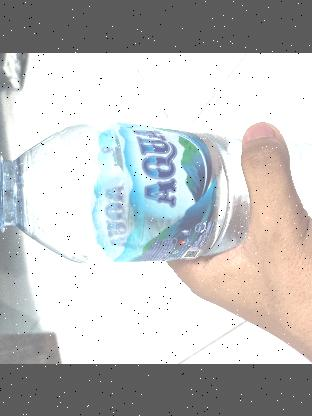Plastic Bottle: (0, 109, 312, 278)
